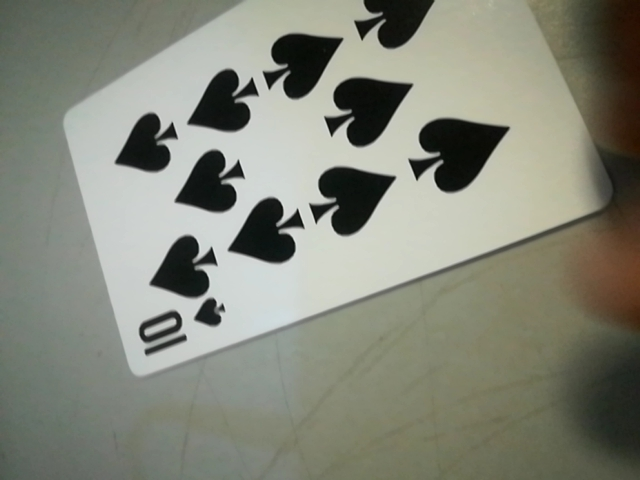ht 10: (115, 295, 239, 371)
